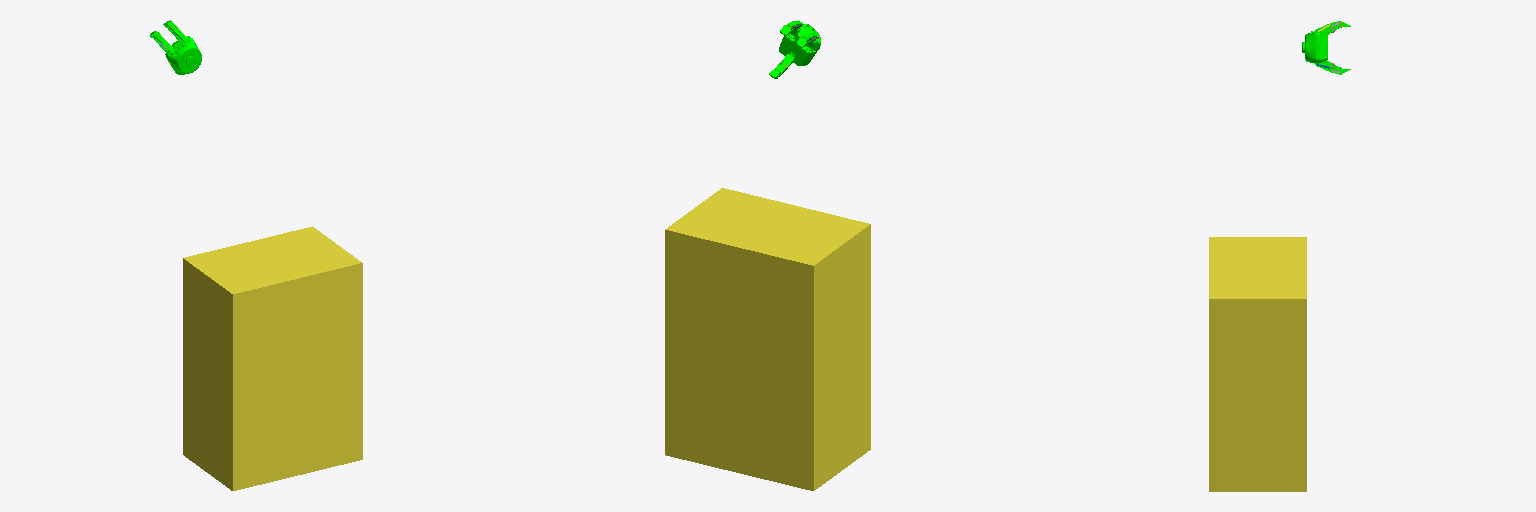
--- What the picture shows (computed from the rendered views, not written in the file) ---
The picture shows the robot from 3 angles, left to right: view 1: azimuth 30°, elevation 25°; view 2: azimuth 150°, elevation 25°; view 3: azimuth 270°, elevation 25°; orthographic projection.
Robot: ur5 — 52 links, 51 joints (45 revolute, 6 fixed); root link world; default pose: joints at zero except 1 at the middle of their limits (shoulder_lift_joint = -2.02).
Links seen in each view (by area): view 1: box_link, gripperpalm; view 2: box_link, gripperpalm; view 3: box_link, gripperpalm.
Link boxes in pixels (x1,y1,x2,y2): box_link: (183, 226, 362, 490); gripperpalm: (165, 36, 201, 74); box_link: (665, 188, 870, 490); gripperpalm: (779, 24, 820, 65); box_link: (1209, 237, 1306, 491); gripperpalm: (1302, 31, 1327, 62).
Bounding box of the posed robot: 0.6611 × 0.5767 × 1.86 m (x, y, z).
13 mesh visuals loaded from 12 distinct referenced files (5 binary STL); not drawn: 7 (reference not matched to a file when rendering).

URDF robot description (ur5):
<?xml version="1.0" ?>
<!-- =================================================================================== -->
<!-- |    This document was autogenerated by xacro from ur5_joint_limited_box_robot_robotiq3.urdf.xacro | -->
<!-- |    EDITING THIS FILE BY HAND IS NOT RECOMMENDED                                 | -->
<!-- =================================================================================== -->
<robot name="ur5" xmlns:xacro="http://ros.org/wiki/xacro">
  <gazebo>
    <plugin filename="libgazebo_ros_control.so" name="ros_control">
      <!--robotNamespace>/</robotNamespace-->
      <!--robotSimType>gazebo_ros_control/DefaultRobotHWSim</robotSimType-->
    </plugin>
    <!--
    <plugin name="gazebo_ros_power_monitor_controller" filename="libgazebo_ros_power_monitor.so">
      <alwaysOn>true</alwaysOn>
      <updateRate>1.0</updateRate>
      <timeout>5</timeout>
      <powerStateTopic>power_state</powerStateTopic>
      <powerStateRate>10.0</powerStateRate>
      <fullChargeCapacity>87.78</fullChargeCapacity>     
      <dischargeRate>-474</dischargeRate>
      <chargeRate>525</chargeRate>
      <dischargeVoltage>15.52</dischargeVoltage>
      <chargeVoltage>16.41</chargeVoltage>
    </plugin>
-->
  </gazebo>
  <!-- measured from model -->
  <!--property name="shoulder_height" value="0.089159" /-->
  <!--property name="shoulder_offset" value="0.13585" /-->
  <!-- shoulder_offset - elbow_offset + wrist_1_length = 0.10915 -->
  <!--property name="upper_arm_length" value="0.42500" /-->
  <!--property name="elbow_offset" value="0.1197" /-->
  <!-- CAD measured -->
  <!--property name="forearm_length" value="0.39225" /-->
  <!--property name="wrist_1_length" value="0.093" /-->
  <!-- CAD measured -->
  <!--property name="wrist_2_length" value="0.09465" /-->
  <!-- In CAD this distance is 0.930, but in the spec it is 0.09465 -->
  <!--property name="wrist_3_length" value="0.0823" /-->
  <!-- manually measured -->
  <link name="base_link">
    <visual>
      <geometry>
        <mesh filename="package://ur_description/meshes/ur5/visual/base.dae"/>
      </geometry>
      <material name="LightGrey">
        <color rgba="0.7 0.7 0.7 1.0"/>
      </material>
    </visual>
    <collision>
      <geometry>
        <mesh filename="package://ur_description/meshes/ur5/collision/base.stl"/>
      </geometry>
    </collision>
    <inertial>
      <mass value="4.0"/>
      <origin rpy="0 0 0" xyz="0.0 0.0 0.0"/>
      <inertia ixx="0.00443333156" ixy="0.0" ixz="0.0" iyy="0.00443333156" iyz="0.0" izz="0.0072"/>
    </inertial>
  </link>
  <joint name="shoulder_pan_joint" type="revolute">
    <parent link="base_link"/>
    <child link="shoulder_link"/>
    <origin rpy="0.0 0.0 0.0" xyz="0.0 0.0 0.089159"/>
    <axis xyz="0 0 1"/>
    <limit effort="150.0" lower="-3.14159265" upper="3.14159265" velocity="3.15"/>
    <dynamics damping="0.0" friction="0.0"/>
  </joint>
  <link name="shoulder_link">
    <visual>
      <geometry>
        <mesh filename="package://ur_description/meshes/ur5/visual/shoulder.dae"/>
      </geometry>
      <material name="LightGrey">
        <color rgba="0.7 0.7 0.7 1.0"/>
      </material>
    </visual>
    <collision>
      <geometry>
        <mesh filename="package://ur_description/meshes/ur5/collision/shoulder.stl"/>
      </geometry>
    </collision>
    <inertial>
      <mass value="3.7"/>
      <origin rpy="0 0 0" xyz="0.0 0.0 0.0"/>
      <inertia ixx="0.010267495893" ixy="0.0" ixz="0.0" iyy="0.010267495893" iyz="0.0" izz="0.00666"/>
    </inertial>
  </link>
  <joint name="shoulder_lift_joint" type="revolute">
    <parent link="shoulder_link"/>
    <child link="upper_arm_link"/>
    <origin rpy="0.0 1.570796325 0.0" xyz="0.0 0.13585 0.0"/>
    <axis xyz="0 1 0"/>
    <limit effort="150.0" lower="-3.14159265" upper="-0.9" velocity="3.15"/>
    <!-- <limit effort="150.0" lower="-3.14159265" upper="-0.8" velocity="3.15"/> -->
    <dynamics damping="0.0" friction="0.0"/>
  </joint>
  <link name="upper_arm_link">
    <visual>
      <geometry>
        <mesh filename="package://ur_description/meshes/ur5/visual/upperarm.dae"/>
      </geometry>
      <material name="LightGrey">
        <color rgba="0.7 0.7 0.7 1.0"/>
      </material>
    </visual>
    <collision>
      <geometry>
        <mesh filename="package://ur_description/meshes/ur5/collision/upperarm.stl"/>
      </geometry>
    </collision>
    <inertial>
      <mass value="8.393"/>
      <origin rpy="0 0 0" xyz="0.0 0.0 0.28"/>
      <inertia ixx="0.22689067591" ixy="0.0" ixz="0.0" iyy="0.22689067591" iyz="0.0" izz="0.0151074"/>
    </inertial>
  </link>
  <joint name="elbow_joint" type="revolute">
    <parent link="upper_arm_link"/>
    <child link="forearm_link"/>
    <origin rpy="0.0 0.0 0.0" xyz="0.0 -0.1197 0.425"/>
    <axis xyz="0 1 0"/>
    <limit effort="150.0" lower="-3.14159265" upper="3.14159265" velocity="3.15"/>
    <dynamics damping="0.0" friction="0.0"/>
  </joint>
  <link name="forearm_link">
    <visual>
      <geometry>
        <mesh filename="package://ur_description/meshes/ur5/visual/forearm.dae"/>
      </geometry>
      <material name="LightGrey">
        <color rgba="0.7 0.7 0.7 1.0"/>
      </material>
    </visual>
    <collision>
      <geometry>
        <mesh filename="package://ur_description/meshes/ur5/collision/forearm.stl"/>
      </geometry>
    </collision>
    <inertial>
      <mass value="2.275"/>
      <origin rpy="0 0 0" xyz="0.0 0.0 0.25"/>
      <inertia ixx="0.049443313556" ixy="0.0" ixz="0.0" iyy="0.049443313556" iyz="0.0" izz="0.004095"/>
    </inertial>
  </link>
  <joint name="wrist_1_joint" type="revolute">
    <parent link="forearm_link"/>
    <child link="wrist_1_link"/>
    <origin rpy="0.0 1.570796325 0.0" xyz="0.0 0.0 0.39225"/>
    <axis xyz="0 1 0"/>
    <limit effort="28.0" lower="-3.14159265" upper="3.14159265" velocity="3.2"/>
    <dynamics damping="0.0" friction="0.0"/>
  </joint>
  <link name="wrist_1_link">
    <visual>
      <geometry>
        <mesh filename="package://ur_description/meshes/ur5/visual/wrist1.dae"/>
      </geometry>
      <material name="LightGrey">
        <color rgba="0.7 0.7 0.7 1.0"/>
      </material>
    </visual>
    <collision>
      <geometry>
        <mesh filename="package://ur_description/meshes/ur5/collision/wrist1.stl"/>
      </geometry>
    </collision>
    <inertial>
      <mass value="1.219"/>
      <origin rpy="0 0 0" xyz="0.0 0.0 0.0"/>
      <inertia ixx="0.111172755531" ixy="0.0" ixz="0.0" iyy="0.111172755531" iyz="0.0" izz="0.21942"/>
    </inertial>
  </link>
  <joint name="wrist_2_joint" type="revolute">
    <parent link="wrist_1_link"/>
    <child link="wrist_2_link"/>
    <origin rpy="0.0 0.0 0.0" xyz="0.0 0.093 0.0"/>
    <axis xyz="0 0 1"/>
    <limit effort="28.0" lower="-3.14159265" upper="3.14159265" velocity="3.2"/>
    <dynamics damping="0.0" friction="0.0"/>
  </joint>
  <link name="wrist_2_link">
    <visual>
      <geometry>
        <mesh filename="package://ur_description/meshes/ur5/visual/wrist2.dae"/>
      </geometry>
      <material name="LightGrey">
        <color rgba="0.7 0.7 0.7 1.0"/>
      </material>
    </visual>
    <collision>
      <geometry>
        <mesh filename="package://ur_description/meshes/ur5/collision/wrist2.stl"/>
      </geometry>
    </collision>
    <inertial>
      <mass value="1.219"/>
      <origin rpy="0 0 0" xyz="0.0 0.0 0.0"/>
      <inertia ixx="0.111172755531" ixy="0.0" ixz="0.0" iyy="0.111172755531" iyz="0.0" izz="0.21942"/>
    </inertial>
  </link>
  <joint name="wrist_3_joint" type="revolute">
    <parent link="wrist_2_link"/>
    <child link="wrist_3_link"/>
    <origin rpy="0.0 0.0 0.0" xyz="0.0 0.0 0.09465"/>
    <axis xyz="0 1 0"/>
    <limit effort="28.0" lower="-3.14159265" upper="3.14159265" velocity="3.2"/>
    <dynamics damping="0.0" friction="0.0"/>
  </joint>
  <link name="wrist_3_link">
    <visual>
      <geometry>
        <mesh filename="package://ur_description/meshes/ur5/visual/wrist3.dae"/>
      </geometry>
      <material name="LightGrey">
        <color rgba="0.7 0.7 0.7 1.0"/>
      </material>
    </visual>
    <collision>
      <geometry>
        <mesh filename="package://ur_description/meshes/ur5/collision/wrist3.stl"/>
      </geometry>
    </collision>
    <inertial>
      <mass value="0.1879"/>
      <origin rpy="0 0 0" xyz="0.0 0.0 0.0"/>
      <inertia ixx="0.0171364731454" ixy="0.0" ixz="0.0" iyy="0.0171364731454" iyz="0.0" izz="0.033822"/>
    </inertial>
  </link>
  <joint name="ee_fixed_joint" type="fixed">
    <parent link="wrist_3_link"/>
    <child link="ee_link"/>
    <origin rpy="0.0 0.0 1.570796325" xyz="0.0 0.0823 0.0"/>
  </joint>
  <link name="ee_link">
    <collision>
      <geometry>
        <box size="0.01 0.01 0.01"/>
      </geometry>
      <origin rpy="0 0 0" xyz="-0.01 0 0"/>
    </collision>
  </link>
  <transmission name="shoulder_pan_trans">
    <type>transmission_interface/SimpleTransmission</type>
    <joint name="shoulder_pan_joint">
      <hardwareInterface>PositionJointInterface</hardwareInterface>
    </joint>
    <actuator name="shoulder_pan_motor">
      <mechanicalReduction>1</mechanicalReduction>
    </actuator>
  </transmission>
  <transmission name="shoulder_lift_trans">
    <type>transmission_interface/SimpleTransmission</type>
    <joint name="shoulder_lift_joint">
      <hardwareInterface>PositionJointInterface</hardwareInterface>
    </joint>
    <actuator name="shoulder_lift_motor">
      <mechanicalReduction>1</mechanicalReduction>
    </actuator>
  </transmission>
  <transmission name="elbow_trans">
    <type>transmission_interface/SimpleTransmission</type>
    <joint name="elbow_joint">
      <hardwareInterface>PositionJointInterface</hardwareInterface>
    </joint>
    <actuator name="elbow_motor">
      <mechanicalReduction>1</mechanicalReduction>
    </actuator>
  </transmission>
  <transmission name="wrist_1_trans">
    <type>transmission_interface/SimpleTransmission</type>
    <joint name="wrist_1_joint">
      <hardwareInterface>PositionJointInterface</hardwareInterface>
    </joint>
    <actuator name="wrist_1_motor">
      <mechanicalReduction>1</mechanicalReduction>
    </actuator>
  </transmission>
  <transmission name="wrist_2_trans">
    <type>transmission_interface/SimpleTransmission</type>
    <joint name="wrist_2_joint">
      <hardwareInterface>PositionJointInterface</hardwareInterface>
    </joint>
    <actuator name="wrist_2_motor">
      <mechanicalReduction>1</mechanicalReduction>
    </actuator>
  </transmission>
  <transmission name="wrist_3_trans">
    <type>transmission_interface/SimpleTransmission</type>
    <joint name="wrist_3_joint">
      <hardwareInterface>PositionJointInterface</hardwareInterface>
    </joint>
    <actuator name="wrist_3_motor">
      <mechanicalReduction>1</mechanicalReduction>
    </actuator>
  </transmission>
  <!-- nothing to do here at the moment -->
  <!-- ROS base_link to UR 'Base' Coordinates transform -->
  <link name="base"/>
  <joint name="base_link-base_fixed_joint" type="fixed">
    <!-- NOTE: this rotation is only needed as long as base_link itself is
                 not corrected wrt the real robot (ie: rotated over 180
                 degrees)
      -->
    <origin rpy="0 0 -3.14159265" xyz="0 0 0"/>
    <parent link="base_link"/>
    <child link="base"/>
  </joint>
  <!-- Frame coincident with all-zeros TCP on UR controller -->
  <link name="tool0"/>
  <joint name="wrist_3_link-tool0_fixed_joint" type="fixed">
    <origin rpy="-1.570796325 0 0" xyz="0 0.0823 0"/>
    <parent link="wrist_3_link"/>
    <child link="tool0"/>
  </joint>
  <link name="world"/>
  <!-- box -->
  <link name="box_link">
    <visual>
      <geometry>
        <box size=".6 .4 0.87"/>
      </geometry>
    </visual>
  </link>
  <!-- attach the box to the world-->
  <joint name="world_joint" type="fixed">
    <parent link="world"/>
    <child link="box_link"/>
    <origin rpy="0.0 0.0 0.0" xyz="0.0 0 0.435"/>
  </joint>
  <!-- attach the robot to the box -->
  <joint name="box_joint" type="fixed">
    <parent link="box_link"/>
    <child link="base_link"/>
    <origin rpy="0.0 0.0 0.0" xyz="0.0 0.0 0.435"/>
  </joint>
  <!-- joint attaching parent link to robotiq hand -->
  <joint name="gripperrobotiq_hand_joint" type="fixed">
    <origin rpy="1.570796325 0 0" xyz="0 0 0.0423"/>
    <parent link="tool0"/>
    <child link="gripperpalm"/>
  </joint>
  <!-- Link list -->
  <!-- Link 0 -->
  <link name="gripperfinger_1_link_0">
    <visual>
      <origin rpy="0 0 0" xyz="0 0 0"/>
      <geometry>
        <mesh filename="package://robotiq_s_model_visualization/meshes/s-model_articulated/visual/link_0.STL"/>
      </geometry>
      <material name="green">
        <color rgba="0 1 0 1"/>
      </material>
    </visual>
    <collision>
      <origin rpy="0 0 0" xyz="0 0 0"/>
      <geometry>
        <mesh filename="package://robotiq_s_model_visualization/meshes/s-model_articulated/collision/link_0.STL"/>
      </geometry>
      <material name="yellow">
        <color rgba="0 1 1 1"/>
      </material>
    </collision>
    <inertial>
      <mass value="0.1"/>
      <origin xyz="-0.01 0 0"/>
      <inertia ixx="0.000018" ixy="0" ixz="0" iyy="0.000025" iyz="0" izz="0.000025"/>
    </inertial>
  </link>
  <gazebo reference="gripperfinger_1_link_0">
    <mu1>1.1</mu1>
    <mu2>1.1</mu2>
  </gazebo>
  <!-- Link 1 -->
  <link name="gripperfinger_1_link_1">
    <visual>
      <origin rpy="0 0 1.5708" xyz="0 0.05717 0"/>
      <geometry>
        <mesh filename="package://robotiq_s_model_visualization/meshes/s-model_articulated/visual/link_1.STL"/>
      </geometry>
      <material name="green"/>
    </visual>
    <collision>
      <origin rpy="0 0 1.5708" xyz="0 0.05717 0"/>
      <geometry>
        <mesh filename="package://robotiq_s_model_visualization/meshes/s-model_articulated/collision/link_1.STL"/>
      </geometry>
      <material name="yellow">
        <color rgba="0 1 1 1"/>
      </material>
    </collision>
    <inertial>
      <origin rpy="0 0 1.5708" xyz="0.00053 0.03218 0"/>
      <mass value="0.047"/>
      <inertia ixx="0.00000499332" ixy="0.00000091312" ixz="-0.00000000120" iyy="0.00006434531" iyz="-0.00000000007" izz="0.00006061917"/>
    </inertial>
  </link>
  <gazebo reference="gripperfinger_1_link_1">
    <mu1>1.1</mu1>
    <mu2>1.1</mu2>
  </gazebo>
  <!-- Link 2 -->
  <link name="gripperfinger_1_link_2">
    <visual>
      <origin rpy="0 0 1.5708" xyz="0 0.03810 0.0075"/>
      <geometry>
        <mesh filename="package://robotiq_s_model_visualization/meshes/s-model_articulated/visual/link_2.STL"/>
      </geometry>
      <material name="green"/>
    </visual>
    <collision>
      <origin rpy="0 0 1.5708" xyz="0 0.03810 0.0075"/>
      <geometry>
        <mesh filename="package://robotiq_s_model_visualization/meshes/s-model_articulated/collision/link_2.STL"/>
      </geometry>
      <material name="yellow"/>
    </collision>
    <inertial>
      <origin rpy="0 0 1.5708" xyz="0.00048 0.02167 0.00018"/>
      <mass value="0.03284"/>
      <inertia ixx="0.00000348008" ixy="0.00000031940" ixz="0.00000013041" iyy="0.00002248123" iyz="0.00000000291" izz="0.00001986346"/>
    </inertial>
  </link>
  <gazebo reference="gripperfinger_1_link_2">
    <mu1>1.1</mu1>
    <mu2>1.1</mu2>
  </gazebo>
  <!-- Link 3 -->
  <link name="gripperfinger_1_link_3">
    <visual>
      <origin rpy="0 0 0" xyz="0 0 0"/>
      <geometry>
        <mesh filename="package://robotiq_s_model_visualization/meshes/s-model_articulated/visual/link_3.STL"/>
      </geometry>
      <material name="green"/>
    </visual>
    <collision>
      <origin rpy="0 0 0" xyz="0 0 0"/>
      <geometry>
        <mesh filename="package://robotiq_s_model_visualization/meshes/s-model_articulated/collision/link_3.STL"/>
      </geometry>
      <material name="yellow"/>
    </collision>
    <inertial>
      <origin rpy="0 0 0" xyz="0.01626 0.00049 0.0002"/>
      <mass value="0.03354"/>
      <inertia ixx="0.00000305151" ixy="0.00000089792" ixz="0.00000000249" iyy="0.00001427978" iyz="-0.00000001191" izz="0.00001264126"/>
    </inertial>
  </link>
  <gazebo reference="gripperfinger_1_link_3">
    <mu1>1.1</mu1>
    <mu2>1.1</mu2>
  </gazebo>
  <!-- Link proximal actuating hinge -->
  <link name="gripperfinger_1_link_proximal_actuating_hinge">
    <visual>
      <origin rpy="0 0 0" xyz="0.01429 0 0"/>
      <geometry>
        <box size="0.02858 .0075 .002"/>
      </geometry>
    </visual>
    <collision>
      <origin rpy="0 0 0" xyz="0.01429 0 0"/>
      <geometry>
        <box size="0.02858 .0075 .002"/>
      </geometry>
    </collision>
    <inertial>
      <origin rpy="0 0 0" xyz="0.0012 -0.00162 -0.00161"/>
      <mass value="0.02647"/>
      <inertia ixx="0.00000156447" ixy="0.000000236226" ixz="-0.00000014862" iyy="0.00000221068" iyz="-0.00000014369" izz="0.00000323175"/>
    </inertial>
  </link>
  <gazebo reference="gripperfinger_1_link_proximal_actuating_hinge">
    <mu1>1.1</mu1>
    <mu2>1.1</mu2>
  </gazebo>
  <!-- Link paraproximal actuating hinge -->
  <link name="gripperfinger_1_link_paraproximal_actuating_hinge">
    <visual>
      <origin rpy="0 0 0" xyz="0.01143 0 0"/>
      <geometry>
        <box size="0.02286 .0075 .002"/>
      </geometry>
    </visual>
    <collision>
      <origin rpy="0 0 0" xyz="0.01143 0 0"/>
      <geometry>
        <box size="0.02286 .0075 .002"/>
      </geometry>
    </collision>
    <inertial>
      <origin rpy="0 0 0" xyz="0.0064 0 0"/>
      <!-- copied from proximal_actuating_hinge -->
      <mass value="0.00362"/>
      <inertia ixx="0.00000012043" ixy="0" ixz="0" iyy="0.00000053588" iyz="0" izz="0.00000065322"/>
    </inertial>
  </link>
  <gazebo reference="gripperfinger_1_link_paraproximal_actuating_hinge">
    <mu1>1.1</mu1>
    <mu2>1.1</mu2>
  </gazebo>
  <!-- Link proximal actuating bar -->
  <link name="gripperfinger_1_link_proximal_actuating_bar">
    <visual>
      <origin rpy="0 0 0" xyz="0.026789 0 0"/>
      <geometry>
        <box size="0.05398 .0075 .002"/>
      </geometry>
    </visual>
    <collision>
      <origin rpy="0 0 0" xyz="0.026789 0 0"/>
      <geometry>
        <box size="0.05398 .0075 .002"/>
      </geometry>
    </collision>
    <inertial>
      <origin rpy="0 0 0" xyz="0.02699 -0.00122 0"/>
      <mass value="0.00659"/>
      <inertia ixx="0.00000008348" ixy="-0.0000002179" ixz="0.00000000134" iyy="0.00000719076" iyz="0" izz="0.00000718272"/>
    </inertial>
  </link>
  <gazebo reference="gripperfinger_1_link_proximal_actuating_bar">
    <mu1>1.1</mu1>
    <mu2>1.1</mu2>
  </gazebo>
  <!-- Link paraproximal bar -->
  <link name="gripperfinger_1_link_paraproximal_bar">
    <visual>
      <origin rpy="0 0 0" xyz="0.02885 0 0"/>
      <geometry>
        <box size="0.05770 .0075 .002"/>
      </geometry>
    </visual>
    <collision>
      <origin rpy="0 0 0" xyz="0.02885 0 0"/>
      <geometry>
        <box size="0.05770 .0075 .002"/>
      </geometry>
    </collision>
    <inertial>
      <origin rpy="0 0 0" xyz="0.02858 -0.00129 0"/>
      <mass value="0.00732"/>
      <inertia ixx="0.00000009065" ixy="-0.00000027047" ixz="0.00000000142" iyy="0.00000878034" iyz="0" izz="0.00000877558"/>
    </inertial>
  </link>
  <gazebo reference="gripperfinger_1_link_paraproximal_bar">
    <mu1>1.1</mu1>
    <mu2>1.1</mu2>
  </gazebo>
  <!-- Link median actuating hinge -->
  <link name="gripperfinger_1_link_median_actuating_hinge">
    <visual>
      <origin rpy="0 0 0" xyz="0 0 0"/>
      <geometry>
        <box size=".02 .02 .002"/>
      </geometry>
    </visual>
    <collision>
      <origin rpy="0 0 0" xyz="0 0 0"/>
      <geometry>
        <box size=".02 .02 .002"/>
      </geometry>
    </collision>
    <inertial>
      <origin rpy="0 0 0" xyz="0.0092 0.00514 0"/>
      <mass value="0.00359"/>
      <inertia ixx="0.00000024735" ixy="0.00000023619" ixz="0" iyy="0.00000047681" iyz="0" izz="0.00000071813"/>
    </inertial>
  </link>
  <gazebo reference="gripperfinger_1_link_median_actuating_hinge">
    <mu1>1.1</mu1>
    <mu2>1.1</mu2>
  </gazebo>
  <!-- Link median bar -->
  <link name="gripperfinger_1_link_median_bar">
    <visual>
      <origin rpy="0 0 0" xyz="0.01905 0 0"/>
      <geometry>
        <box size="0.0381 .0075 .002"/>
      </geometry>
    </visual>
    <collision>
      <origin rpy="0 0 0" xyz="0.01905 0 0"/>
      <geometry>
        <box size="0.0381 .0075 .002"/>
      </geometry>
    </collision>
    <inertial>
      <origin rpy="0 0 0" xyz="0.01905 -0.00107 0"/>
      <mass value="0.00538"/>
      <inertia ixx="0.00000006639" ixy="-0.00000010996" ixz="0.00000000094" iyy="0.00000305318" iyz="0" izz="0.00000304657"/>
    </inertial>
  </link>
  <gazebo reference="gripperfinger_1_link_median_bar">
    <mu1>1.1</mu1>
    <mu2>1.1</mu2>
  </gazebo>
  <!-- Link paramedian hinge -->
  <link name="gripperfinger_1_link_paramedian_hinge">
    <visual>
      <origin rpy="0 0 0" xyz="0 0 0"/>
      <geometry>
        <box size=".02 .02 .002"/>
      </geometry>
    </visual>
    <collision>
      <origin rpy="0 0 0" xyz="0 0 0"/>
      <geometry>
        <box size=".02 .02 .002"/>
      </geometry>
    </collision>
    <inertial>
      <origin rpy="0 0 0" xyz="-0.01025 0.00046 0"/>
      <mass value="0.00276"/>
      <inertia ixx="0.00000004213" ixy="-0.00000001491" ixz="0" iyy="0.00000050258" iyz="0" izz="0.00000054007"/>
    </inertial>
  </link>
  <gazebo reference="gripperfinger_1_link_paramedian_hinge">
    <mu1>1.1</mu1>
    <mu2>1.1</mu2>
  </gazebo>
  <!-- Link median bar underactuated -->
  <link name="gripperfinger_1_link_median_bar_underactuated">
    <visual>
      <origin rpy="0 0 0" xyz="0.01905 0 0"/>
      <geometry>
        <box size="0.0381 .0075 .002"/>
      </geometry>
    </visual>
    <collision>
      <origin rpy="0 0 0" xyz="0.01905 0 0"/>
      <geometry>
        <box size="0.0381 .0075 .002"/>
      </geometry>
    </collision>
    <inertial>
      <origin rpy="0 0 0" xyz="0.01905 -0.00107 0"/>
      <mass value="0.00538"/>
      <inertia ixx="0.00000006639" ixy="-0.00000010996" ixz="-0.00000000094" iyy="0.00000305318" iyz="0" izz="0.00000304657"/>
    </inertial>
  </link>
  <gazebo reference="gripperfinger_1_link_median_bar_underactuated">
    <mu1>1.1</mu1>
    <mu2>1.1</mu2>
  </gazebo>
  <!-- Link paradistal hinge -->
  <link name="gripperfinger_1_link_paradistal_hinge">
    <visual>
      <origin rpy="0 0 0" xyz="0 0 0"/>
      <geometry>
        <box size=".02 .02 .002"/>
      </geometry>
    </visual>
    <collision>
      <origin rpy="0 0 0" xyz="0 0 0"/>
      <geometry>
        <box size=".02 0.02 .002"/>
      </geometry>
    </collision>
    <inertial>
      <origin rpy="0 0 0" xyz="0.00548 0 0"/>
      <mass value="0.00158"/>
      <inertia ixx="0.00000001907" ixy="0" ixz="0" iyy="0.00000010970" iyz="0" izz="0.00000012610"/>
    </inertial>
  </link>
  <gazebo reference="gripperfinger_1_link_paradistal_hinge">
    <mu1>1.1</mu1>
    <mu2>1.1</mu2>
  </gazebo>
  <!-- End of link list -->
  <!-- Joint list -->
  <!-- Joint proximal actuating hinge -->
  <joint name="gripperfinger_1_joint_proximal_actuating_hinge" type="revolute">
    <parent link="gripperfinger_1_link_0"/>
    <child link="gripperfinger_1_link_proximal_actuating_hinge"/>
    <axis xyz="0 0 1"/>
    <origin rpy="0 0 -2.0906" xyz="0 0 0.01"/>
    <limit effort="100" lower="-3.1416" upper="3.1416" velocity="100"/>
  </joint>
  <gazebo reference="gripperfinger_1_joint_proximal_actuating_hinge">
    <implicitSpringDamper>1</implicitSpringDamper>
  </gazebo>
  <!-- Joint paraproximal actuating hinge -->
  <joint name="gripperfinger_1_joint_paraproximal_actuating_hinge" type="revolute">
    <parent link="gripperfinger_1_link_0"/>
    <child link="gripperfinger_1_link_paraproximal_actuating_hinge"/>
    <axis xyz="0 0 1"/>
    <origin rpy="0 0 -2.0906" xyz="0 0 -0.01"/>
    <limit effort="100" lower="-3.1416" upper="3.1416" velocity="100"/>
  </joint>
  <gazebo reference="gripperfinger_1_joint_paraproximal_actuating_hinge">
    <implicitSpringDamper>1</implicitSpringDamper>
  </gazebo>
  <!-- Joint proximal actuating bar -->
  <joint name="gripperfinger_1_joint_proximal_actuating_bar" type="revolute">
    <parent link="gripperfinger_1_link_proximal_actuating_hinge"/>
    <child link="gripperfinger_1_link_proximal_actuating_bar"/>
    <axis xyz="0 0 1"/>
    <origin rpy="0 0 1.8616" xyz="0.02858 0 0"/>
    <limit effort="100" lower="-3.1416" upper="3.1416" velocity="100"/>
  </joint>
  <gazebo reference="gripperfinger_1_joint_proximal_actuating_bar">
    <implicitSpringDamper>1</implicitSpringDamper>
  </gazebo>
  <!-- Joint paraproximal bar -->
  <joint name="gripperfinger_1_joint_paraproximal_bar" type="revolute">
    <parent link="gripperfinger_1_link_paraproximal_actuating_hinge"/>
    <child link="gripperfinger_1_link_paraproximal_bar"/>
    <axis xyz="0 0 1"/>
    <origin rpy="0 0 1.57" xyz="0.02286 0 0"/>
    <limit effort="100" lower="-3.1416" upper="3.1416" velocity="100"/>
  </joint>
  <gazebo reference="gripperfinger_1_joint_paraproximal_bar">
    <implicitSpringDamper>1</implicitSpringDamper>
  </gazebo>
  <!-- Joint median actuating hinge -->
  <joint name="gripperfinger_1_joint_median_actuating_hinge" type="revolute">
    <parent link="gripperfinger_1_link_1"/>
    <child link="gripperfinger_1_link_median_actuating_hinge"/>
    <axis xyz="0 0 1"/>
    <origin rpy="0 0 -0.37" xyz="0 0.05715 0.01"/>
    <limit effort="100" lower="-3.1416" upper="3.1416" velocity="100"/>
  </joint>
  <gazebo reference="gripperfinger_1_joint_median_actuating_hinge">
    <implicitSpringDamper>1</implicitSpringDamper>
  </gazebo>
  <!-- Joint paramedian hinge -->
  <joint name="gripperfinger_1_joint_paramedian_hinge" type="revolute">
    <parent link="gripperfinger_1_link_1"/>
    <child link="gripperfinger_1_link_paramedian_hinge"/>
    <axis xyz="0 0 1"/>
    <!-- -0.37 is hand picked, 0.9719 is hand calculated from atan(0.02381/0.01625) -->
    <origin rpy="0 0 0" xyz="0 0.05715 -0.01"/>
    <limit effort="100" lower="-3.1416" upper="3.1416" velocity="100"/>
  </joint>
  <gazebo reference="gripperfinger_1_joint_paramedian_hinge">
    <implicitSpringDamper>1</implicitSpringDamper>
  </gazebo>
  <!-- Joint median actuating hinge median bar -->
  <joint name="gripperfinger_1_joint_median_actuating_hinge_median_bar" type="revolute">
    <parent link="gripperfinger_1_link_median_actuating_hinge"/>
    <child link="gripperfinger_1_link_median_bar"/>
    <axis xyz="0 0 1"/>
    <!-- hand calc 90 deg + atan(0.01516/0.01625) -->
    <origin rpy="0 0 2.3215" xyz="0.01625 0.01516 0"/>
    <limit effort="100" lower="-3.1416" upper="3.1416" velocity="100"/>
  </joint>
  <gazebo reference="gripperfinger_1_joint_median_actuating_hinge_median_bar">
    <implicitSpringDamper>1</implicitSpringDamper>
  </gazebo>
  <!-- Joint paradistal hinge -->
  <joint name="gripperfinger_1_joint_paradistal_hinge" type="revolute">
    <parent link="gripperfinger_1_link_2"/>
    <child link="gripperfinger_1_link_paradistal_hinge"/>
    <axis xyz="0 0 1"/>
    <origin rpy="0 0 0" xyz="0 0.039 -0.01"/>
    <limit effort="100" lower="-3.1416" upper="3.1416" velocity="100"/>
  </joint>
  <gazebo reference="gripperfinger_1_joint_paradistal_hinge">
    <implicitSpringDamper>1</implicitSpringDamper>
  </gazebo>
  <!-- Joint paramedian hinge median bar underactuated -->
  <joint name="gripperfinger_1_joint_paramedian_hinge_median_bar_underactuated" type="revolute">
    <parent link="gripperfinger_1_link_paramedian_hinge"/>
    <child link="gripperfinger_1_link_median_bar_underactuated"/>
    <axis xyz="0 0 1"/>
    <!-- hand calc 90 deg + atan(0.01227/0.00329) -->
    <origin rpy="0 0 1.5708" xyz="0.01227 0.00329 0"/>
    <limit effort="100" lower="-3.1416" upper="3.1416" velocity="100"/>
  </joint>
  <gazebo reference="gripperfinger_1_joint_paramedian_hinge_median_bar_underactuated">
    <implicitSpringDamper>1</implicitSpringDamper>
  </gazebo>
  <!-- Joint 1 -->
  <joint name="gripperfinger_1_joint_1" type="revolute">
    <origin rpy="0 0 -2.0906" xyz="0 0 0"/>
    <axis xyz="0 0 1"/>
    <parent link="gripperfinger_1_link_0"/>
    <child link="gripperfinger_1_link_1"/>
    <dynamics damping="1" friction="0"/>
    <!-- Limits: [0deg.,70deg.] -->
    <limit effort="60" lower="0" upper="1.2217" velocity="-1"/>
  </joint>
  <gazebo reference="gripperfinger_1_joint_1">
    <implicitSpringDamper>1</implicitSpringDamper>
  </gazebo>
  <!-- Joint 2 -->
  <joint name="gripperfinger_1_joint_2" type="revolute">
    <parent link="gripperfinger_1_link_1"/>
    <child link="gripperfinger_1_link_2"/>
    <dynamics damping="1" friction="0"/>
    <axis xyz="0 0 1"/>
    <origin rpy="0 0 0" xyz="0 0.05715 0"/>
    <!-- Limits: [0deg.,90deg.] -->
    <limit effort="60" lower="0" upper="1.5708" velocity="-1"/>
  </joint>
  <gazebo reference="gripperfinger_1_joint_2">
    <implicitSpringDamper>1</implicitSpringDamper>
  </gazebo>
  <!-- Joint 3 -->
  <joint name="gripperfinger_1_joint_3" type="revolute">
    <parent link="gripperfinger_1_link_2"/>
    <child link="gripperfinger_1_link_3"/>
    <dynamics damping="1" friction="0"/>
    <axis xyz="0 0 1"/>
    <origin rpy="0 0 2.0906" xyz="0 0.039 0"/>
    <!-- Limits: [-38deg.,60deg.] -->
    <limit effort="60" lower="-0.6632" upper="1.0471" velocity="-1"/>
  </joint>
  <gazebo reference="gripperfinger_1_joint_3">
    <implicitSpringDamper>1</implicitSpringDamper>
  </gazebo>
  <!-- end of joint list -->
  <!-- coupling joints in sdf -->
  <gazebo>
    <joint name="gripperfinger_1_link_proximal_actuating_bar_median_actuating_hinge_couple" type="revolute">
      <parent>gripperfinger_1_link_median_actuating_hinge</parent>
      <child>gripperfinger_1_link_proximal_actuating_bar</child>
      <pose>0.05398 0 0 0 0 0</pose>
      <axis>
        <dynamics>
          <damping>0</damping>
          <friction>0</friction>
        </dynamics>
        <xyz>0 0 1</xyz>
        <!-- <use_parent_model_frame>false</use_parent_model_frame> -->
      </axis>
    </joint>
  </gazebo>
  <gazebo reference="gripperfinger_1_link_proximal_actuating_bar_median_actuating_hinge_couple">
    <implicitSpringDamper>1</implicitSpringDamper>
  </gazebo>
  <gazebo>
    <joint name="gripperfinger_1_link_median_bar_link_3_couple" type="revolute">
      <parent>gripperfinger_1_link_3</parent>
      <child>gripperfinger_1_link_median_bar</child>
      <pose>0.0381 0 0 0 0 0</pose>
      <axis>
        <dynamics>
          <damping>0</damping>
          <friction>0</friction>
        </dynamics>
        <xyz>0 0 1</xyz>
        <!-- <use_parent_model_frame>false</use_parent_model_frame> -->
      </axis>
    </joint>
  </gazebo>
  <gazebo reference="gripperfinger_1_link_median_bar_link_3_couple">
    <implicitSpringDamper>1</implicitSpringDamper>
  </gazebo>
  <gazebo>
    <joint name="gripperfinger_1_link_paramedian_bar_paradistal_hinge_couple" type="revolute">
      <parent>gripperfinger_1_link_paradistal_hinge</parent>
      <child>gripperfinger_1_link_median_bar_underactuated</child>
      <pose>0.0381 0 0 0 0 0</pose>
      <axis>
        <dynamics>
          <damping>0</damping>
          <friction>0</friction>
        </dynamics>
        <xyz>0 0 1</xyz>
        <!-- <use_parent_model_frame>false</use_parent_model_frame> -->
      </axis>
    </joint>
  </gazebo>
  <gazebo reference="gripperfinger_1_link_median_bar_link_3_couple">
    <implicitSpringDamper>1</implicitSpringDamper>
  </gazebo>
  <gazebo>
    <joint name="gripperfinger_1_link_paradistal_hinge_link_3_couple" type="revolute">
      <parent>gripperfinger_1_link_paradistal_hinge</parent>
      <child>gripperfinger_1_link_3</child>
      <pose>0.0381 0 0 0 0 0</pose>
      <axis>
        <dynamics>
          <damping>0</damping>
          <friction>0</friction>
        </dynamics>
        <xyz>0 0 1</xyz>
        <!-- <use_parent_model_frame>false</use_parent_model_frame> -->
      </axis>
    </joint>
  </gazebo>
  <gazebo reference="gripperfinger_1_link_paradistal_hinge_link_3_couple">
    <implicitSpringDamper>1</implicitSpringDamper>
  </gazebo>
  <gazebo>
    <joint name="gripperfinger_1_link_paraproximal_bar_paramedian_hinge_couple" type="revolute">
      <parent>gripperfinger_1_link_paramedian_hinge</parent>
      <child>gripperfinger_1_link_paraproximal_bar</child>
      <pose>0.05770 0 0 0 0 0</pose>
      <axis>
        <dynamics>
          <damping>0</damping>
          <friction>0</friction>
        </dynamics>
        <xyz>0 0 1</xyz>
        <!-- <use_parent_model_frame>false</use_parent_model_frame> -->
      </axis>
    </joint>
  </gazebo>
  <gazebo reference="gripperfinger_1_link_paraproximal_bar_paramedian_hinge_couple">
    <implicitSpringDamper>1</implicitSpringDamper>
  </gazebo>
  <!-- Link list -->
  <!-- Link 0 -->
  <link name="gripperfinger_2_link_0">
    <visual>
      <origin rpy="0 0 0" xyz="0 0 0"/>
      <geometry>
        <mesh filename="package://robotiq_s_model_visualization/meshes/s-model_articulated/visual/link_0.STL"/>
      </geometry>
      <material name="green">
        <color rgba="0 1 0 1"/>
      </material>
    </visual>
    <collision>
      <origin rpy="0 0 0" xyz="0 0 0"/>
      <geometry>
        <mesh filename="package://robotiq_s_model_visualization/meshes/s-model_articulated/collision/link_0.STL"/>
      </geometry>
      <material name="yellow">
        <color rgba="0 1 1 1"/>
      </material>
    </collision>
    <inertial>
      <mass value="0.1"/>
      <origin xyz="-0.01 0 0"/>
      <inertia ixx="0.000018" ixy="0" ixz="0" iyy="0.000025" iyz="0" izz="0.000025"/>
    </inertial>
  </link>
  <gazebo reference="gripperfinger_2_link_0">
    <mu1>1.1</mu1>
    <mu2>1.1</mu2>
  </gazebo>
  <!-- Link 1 -->
  <link name="gripperfinger_2_link_1">
    <visual>
      <origin rpy="0 0 1.5708" xyz="0 0.05717 0"/>
      <geometry>
        <mesh filename="package://robotiq_s_model_visualization/meshes/s-model_articulated/visual/link_1.STL"/>
      </geometry>
      <material name="green"/>
    </visual>
    <collision>
      <origin rpy="0 0 1.5708" xyz="0 0.05717 0"/>
      <geometry>
        <mesh filename="package://robotiq_s_model_visualization/meshes/s-model_articulated/collision/link_1.STL"/>
      </geometry>
      <material name="yellow">
        <color rgba="0 1 1 1"/>
      </material>
    </collision>
    <inertial>
      <origin rpy="0 0 1.5708" xyz="0.00053 0.03218 0"/>
      <mass value="0.047"/>
      <inertia ixx="0.00000499332" ixy="0.00000091312" ixz="-0.00000000120" iyy="0.00006434531" iyz="-0.00000000007" izz="0.00006061917"/>
    </inertial>
  </link>
  <gazebo reference="gripperfinger_2_link_1">
    <mu1>1.1</mu1>
    <mu2>1.1</mu2>
  </gazebo>
  <!-- Link 2 -->
  <link name="gripperfinger_2_link_2">
    <visual>
      <origin rpy="0 0 1.5708" xyz="0 0.03810 0.0075"/>
      <geometry>
        <mesh filename="package://robotiq_s_model_visualization/meshes/s-model_articulated/visual/link_2.STL"/>
      </geometry>
      <material name="green"/>
    </visual>
    <collision>
      <origin rpy="0 0 1.5708" xyz="0 0.03810 0.0075"/>
      <geometry>
        <mesh filename="package://robotiq_s_model_visualization/meshes/s-model_articulated/collision/link_2.STL"/>
      </geometry>
      <material name="yellow"/>
    </collision>
    <inertial>
      <origin rpy="0 0 1.5708" xyz="0.00048 0.02167 0.00018"/>
      <mass value="0.03284"/>
      <inertia ixx="0.00000348008" ixy="0.00000031940" ixz="0.00000013041" iyy="0.00002248123" iyz="0.00000000291" izz="0.00001986346"/>
    </inertial>
  </link>
  <gazebo reference="gripperfinger_2_link_2">
    <mu1>1.1</mu1>
    <mu2>1.1</mu2>
  </gazebo>
  <!-- Link 3 -->
  <link name="gripperfinger_2_link_3">
    <visual>
      <origin rpy="0 0 0" xyz="0 0 0"/>
      <geometry>
        <mesh filename="package://robotiq_s_model_visualization/meshes/s-model_articulated/visual/link_3.STL"/>
      </geometry>
      <material name="green"/>
    </visual>
    <collision>
      <origin rpy="0 0 0" xyz="0 0 0"/>
      <geometry>
        <mesh filename="package://robotiq_s_model_visualization/meshes/s-model_articulated/collision/link_3.STL"/>
      </geometry>
      <material name="yellow"/>
    </collision>
    <inertial>
      <origin rpy="0 0 0" xyz="0.01626 0.00049 0.0002"/>
      <mass value="0.03354"/>
      <inertia ixx="0.00000305151" ixy="0.00000089792" ixz="0.00000000249" iyy="0.00001427978" iyz="-0.00000001191" izz="0.00001264126"/>
    </inertial>
  </link>
  <gazebo reference="gripperfinger_2_link_3">
    <mu1>1.1</mu1>
    <mu2>1.1</mu2>
  </gazebo>
  <!-- Link proximal actuating hinge -->
  <link name="gripperfinger_2_link_proximal_actuating_hinge">
    <visual>
      <origin rpy="0 0 0" xyz="0.01429 0 0"/>
      <geometry>
        <box size="0.02858 .0075 .002"/>
      </geometry>
    </visual>
    <collision>
      <origin rpy="0 0 0" xyz="0.01429 0 0"/>
      <geometry>
        <box size="0.02858 .0075 .002"/>
      </geometry>
    </collision>
    <inertial>
      <origin rpy="0 0 0" xyz="0.0012 -0.00162 -0.00161"/>
      <mass value="0.02647"/>
      <inertia ixx="0.00000156447" ixy="0.000000236226" ixz="-0.00000014862" iyy="0.00000221068" iyz="-0.00000014369" izz="0.00000323175"/>
    </inertial>
  </link>
  <gazebo reference="gripperfinger_2_link_proximal_actuating_hinge">
    <mu1>1.1</mu1>
    <mu2>1.1</mu2>
  </gazebo>
  <!-- Link paraproximal actuating hinge -->
  <link name="gripperfinger_2_link_paraproximal_actuating_hinge">
    <visual>
      <origin rpy="0 0 0" xyz="0.01143 0 0"/>
      <geometry>
        <box size="0.02286 .0075 .002"/>
      </geometry>
    </visual>
    <collision>
      <origin rpy="0 0 0" xyz="0.01143 0 0"/>
      <geometry>
        <box size="0.02286 .0075 .002"/>
      </geometry>
    </collision>
    <inertial>
      <origin rpy="0 0 0" xyz="0.0064 0 0"/>
      <!-- copied from proximal_actuating_hinge -->
      <mass value="0.00362"/>
      <inertia ixx="0.00000012043" ixy="0" ixz="0" iyy="0.00000053588" iyz="0" izz="0.00000065322"/>
    </inertial>
  </link>
  <gazebo reference="gripperfinger_2_link_paraproximal_actuating_hinge">
    <mu1>1.1</mu1>
    <mu2>1.1</mu2>
  </gazebo>
  <!-- Link proximal actuating bar -->
  <link name="gripperfinger_2_link_proximal_actuating_bar">
    <visual>
      <origin rpy="0 0 0" xyz="0.026789 0 0"/>
      <geometry>
        <box size="0.05398 .0075 .002"/>
      </geometry>
    </visual>
    <collision>
      <origin rpy="0 0 0" xyz="0.026789 0 0"/>
      <geometry>
        <box size="0.05398 .0075 .002"/>
      </geometry>
    </collision>
    <inertial>
      <origin rpy="0 0 0" xyz="0.02699 -0.00122 0"/>
      <mass value="0.00659"/>
      <inertia ixx="0.00000008348" ixy="-0.0000002179" ixz="0.00000000134" iyy="0.00000719076" iyz="0" izz="0.00000718272"/>
    </inertial>
  </link>
  <gazebo reference="gripperfinger_2_link_proximal_actuating_bar">
    <mu1>1.1</mu1>
    <mu2>1.1</mu2>
  </gazebo>
  <!-- Link paraproximal bar -->
  <link name="gripperfinger_2_link_paraproximal_bar">
    <visual>
      <origin rpy="0 0 0" xyz="0.02885 0 0"/>
      <geometry>
        <box size="0.05770 .0075 .002"/>
      </geometry>
    </visual>
    <collision>
      <origin rpy="0 0 0" xyz="0.02885 0 0"/>
      <geometry>
        <box size="0.05770 .0075 .002"/>
      </geometry>
    </collision>
    <inertial>
      <origin rpy="0 0 0" xyz="0.02858 -0.00129 0"/>
      <mass value="0.00732"/>
      <inertia ixx="0.00000009065" ixy="-0.00000027047" ixz="0.00000000142" iyy="0.00000878034" iyz="0" izz="0.00000877558"/>
    </inertial>
  </link>
  <gazebo reference="gripperfinger_2_link_paraproximal_bar">
    <mu1>1.1</mu1>
    <mu2>1.1</mu2>
  </gazebo>
  <!-- Link median actuating hinge -->
  <link name="gripperfinger_2_link_median_actuating_hinge">
    <visual>
      <origin rpy="0 0 0" xyz="0 0 0"/>
      <geometry>
        <box size=".02 .02 .002"/>
      </geometry>
    </visual>
    <collision>
      <origin rpy="0 0 0" xyz="0 0 0"/>
      <geometry>
        <box size=".02 .02 .002"/>
      </geometry>
    </collision>
    <inertial>
      <origin rpy="0 0 0" xyz="0.0092 0.00514 0"/>
      <mass value="0.00359"/>
      <inertia ixx="0.00000024735" ixy="0.00000023619" ixz="0" iyy="0.00000047681" iyz="0" izz="0.00000071813"/>
    </inertial>
  </link>
  <gazebo reference="gripperfinger_2_link_median_actuating_hinge">
    <mu1>1.1</mu1>
    <mu2>1.1</mu2>
  </gazebo>
  <!-- Link median bar -->
  <link name="gripperfinger_2_link_median_bar">
    <visual>
      <origin rpy="0 0 0" xyz="0.01905 0 0"/>
      <geometry>
        <box size="0.0381 .0075 .002"/>
      </geometry>
    </visual>
    <collision>
      <origin rpy="0 0 0" xyz="0.01905 0 0"/>
      <geometry>
        <box size="0.0381 .0075 .002"/>
      </geometry>
    </collision>
    <inertial>
      <origin rpy="0 0 0" xyz="0.01905 -0.00107 0"/>
      <mass value="0.00538"/>
      <inertia ixx="0.00000006639" ixy="-0.00000010996" ixz="0.00000000094" iyy="0.00000305318" iyz="0" izz="0.00000304657"/>
    </inertial>
  </link>
  <gazebo reference="gripperfinger_2_link_median_bar">
    <mu1>1.1</mu1>
    <mu2>1.1</mu2>
  </gazebo>
  <!-- Link paramedian hinge -->
  <link name="gripperfinger_2_link_paramedian_hinge">
    <visual>
      <origin rpy="0 0 0" xyz="0 0 0"/>
      <geometry>
        <box size=".02 .02 .002"/>
      </geometry>
    </visual>
    <collision>
      <origin rpy="0 0 0" xyz="0 0 0"/>
      <geometry>
        <box size=".02 .02 .002"/>
      </geometry>
    </collision>
    <inertial>
      <origin rpy="0 0 0" xyz="-0.01025 0.00046 0"/>
      <mass value="0.00276"/>
      <inertia ixx="0.00000004213" ixy="-0.00000001491" ixz="0" iyy="0.00000050258" iyz="0" izz="0.00000054007"/>
    </inertial>
  </link>
  <gazebo reference="gripperfinger_2_link_paramedian_hinge">
    <mu1>1.1</mu1>
    <mu2>1.1</mu2>
  </gazebo>
  <!-- Link median bar underactuated -->
  <link name="gripperfinger_2_link_median_bar_underactuated">
    <visual>
      <origin rpy="0 0 0" xyz="0.01905 0 0"/>
      <geometry>
        <box size="0.0381 .0075 .002"/>
      </geometry>
    </visual>
    <collision>
      <origin rpy="0 0 0" xyz="0.01905 0 0"/>
      <geometry>
        <box size="0.0381 .0075 .002"/>
      </geometry>
    </collision>
    <inertial>
      <origin rpy="0 0 0" xyz="0.01905 -0.00107 0"/>
      <mass value="0.00538"/>
      <inertia ixx="0.00000006639" ixy="-0.00000010996" ixz="-0.00000000094" iyy="0.00000305318" iyz="0" izz="0.00000304657"/>
    </inertial>
  </link>
  <gazebo reference="gripperfinger_2_link_median_bar_underactuated">
    <mu1>1.1</mu1>
    <mu2>1.1</mu2>
  </gazebo>
  <!-- Link paradistal hinge -->
  <link name="gripperfinger_2_link_paradistal_hinge">
    <visual>
      <origin rpy="0 0 0" xyz="0 0 0"/>
      <geometry>
        <box size=".02 .02 .002"/>
      </geometry>
    </visual>
    <collision>
      <origin rpy="0 0 0" xyz="0 0 0"/>
      <geometry>
        <box size=".02 0.02 .002"/>
      </geometry>
    </collision>
    <inertial>
      <origin rpy="0 0 0" xyz="0.00548 0 0"/>
      <mass value="0.00158"/>
      <inertia ixx="0.00000001907" ixy="0" ixz="0" iyy="0.00000010970" iyz="0" izz="0.00000012610"/>
    </inertial>
  </link>
  <gazebo reference="gripperfinger_2_link_paradistal_hinge">
    <mu1>1.1</mu1>
    <mu2>1.1</mu2>
  </gazebo>
  <!-- End of link list -->
  <!-- Joint list -->
  <!-- Joint proximal actuating hinge -->
  <joint name="gripperfinger_2_joint_proximal_actuating_hinge" type="revolute">
    <parent link="gripperfinger_2_link_0"/>
    <child link="gripperfinger_2_link_proximal_actuating_hinge"/>
    <axis xyz="0 0 1"/>
    <origin rpy="0 0 -2.0906" xyz="0 0 0.01"/>
    <limit effort="100" lower="-3.1416" upper="3.1416" velocity="100"/>
  </joint>
  <gazebo reference="gripperfinger_2_joint_proximal_actuating_hinge">
    <implicitSpringDamper>1</implicitSpringDamper>
  </gazebo>
  <!-- Joint paraproximal actuating hinge -->
  <joint name="gripperfinger_2_joint_paraproximal_actuating_hinge" type="revolute">
    <parent link="gripperfinger_2_link_0"/>
    <child link="gripperfinger_2_link_paraproximal_actuating_hinge"/>
    <axis xyz="0 0 1"/>
    <origin rpy="0 0 -2.0906" xyz="0 0 -0.01"/>
    <limit effort="100" lower="-3.1416" upper="3.1416" velocity="100"/>
  </joint>
  <gazebo reference="gripperfinger_2_joint_paraproximal_actuating_hinge">
    <implicitSpringDamper>1</implicitSpringDamper>
  </gazebo>
  <!-- Joint proximal actuating bar -->
  <joint name="gripperfinger_2_joint_proximal_actuating_bar" type="revolute">
    <parent link="gripperfinger_2_link_proximal_actuating_hinge"/>
    <child link="gripperfinger_2_link_proximal_actuating_bar"/>
    <axis xyz="0 0 1"/>
    <origin rpy="0 0 1.8616" xyz="0.02858 0 0"/>
    <limit effort="100" lower="-3.1416" upper="3.1416" velocity="100"/>
  </joint>
  <gazebo reference="gripperfinger_2_joint_proximal_actuating_bar">
    <implicitSpringDamper>1</implicitSpringDamper>
  </gazebo>
  <!-- Joint paraproximal bar -->
  <joint name="gripperfinger_2_joint_paraproximal_bar" type="revolute">
    <parent link="gripperfinger_2_link_paraproximal_actuating_hinge"/>
    <child link="gripperfinger_2_link_paraproximal_bar"/>
    <axis xyz="0 0 1"/>
    <origin rpy="0 0 1.57" xyz="0.02286 0 0"/>
    <limit effort="100" lower="-3.1416" upper="3.1416" velocity="100"/>
  </joint>
  <gazebo reference="gripperfinger_2_joint_paraproximal_bar">
    <implicitSpringDamper>1</implicitSpringDamper>
  </gazebo>
  <!-- Joint median actuating hinge -->
  <joint name="gripperfinger_2_joint_median_actuating_hinge" type="revolute">
    <parent link="gripperfinger_2_link_1"/>
    <child link="gripperfinger_2_link_median_actuating_hinge"/>
    <axis xyz="0 0 1"/>
    <origin rpy="0 0 -0.37" xyz="0 0.05715 0.01"/>
    <limit effort="100" lower="-3.1416" upper="3.1416" velocity="100"/>
  </joint>
  <gazebo reference="gripperfinger_2_joint_median_actuating_hinge">
    <implicitSpringDamper>1</implicitSpringDamper>
  </gazebo>
  <!-- Joint paramedian hinge -->
  <joint name="gripperfinger_2_joint_paramedian_hinge" type="revolute">
    <parent link="gripperfinger_2_link_1"/>
    <child link="gripperfinger_2_link_paramedian_hinge"/>
    <axis xyz="0 0 1"/>
    <!-- -0.37 is hand picked, 0.9719 is hand calculated from atan(0.02381/0.01625) -->
    <origin rpy="0 0 0" xyz="0 0.05715 -0.01"/>
    <limit effort="100" lower="-3.1416" upper="3.1416" velocity="100"/>
  </joint>
  <gazebo reference="gripperfinger_2_joint_paramedian_hinge">
    <implicitSpringDamper>1</implicitSpringDamper>
  </gazebo>
  <!-- Joint median actuating hinge median bar -->
  <joint name="gripperfinger_2_joint_median_actuating_hinge_median_bar" type="revolute">
    <parent link="gripperfinger_2_link_median_actuating_hinge"/>
    <child link="gripperfinger_2_link_median_bar"/>
    <axis xyz="0 0 1"/>
    <!-- hand calc 90 deg + atan(0.01516/0.01625) -->
    <origin rpy="0 0 2.3215" xyz="0.01625 0.01516 0"/>
    <limit effort="100" lower="-3.1416" upper="3.1416" velocity="100"/>
  </joint>
  <gazebo reference="gripperfinger_2_joint_median_actuating_hinge_median_bar">
    <implicitSpringDamper>1</implicitSpringDamper>
  </gazebo>
  <!-- Joint paradistal hinge -->
  <joint name="gripperfinger_2_joint_paradistal_hinge" type="revolute">
    <parent link="gripperfinger_2_link_2"/>
    <child link="gripperfinger_2_link_paradistal_hinge"/>
    <axis xyz="0 0 1"/>
    <origin rpy="0 0 0" xyz="0 0.039 -0.01"/>
    <limit effort="100" lower="-3.1416" upper="3.1416" velocity="100"/>
  </joint>
  <gazebo reference="gripperfinger_2_joint_paradistal_hinge">
    <implicitSpringDamper>1</implicitSpringDamper>
  </gazebo>
  <!-- Joint paramedian hinge median bar underactuated -->
  <joint name="gripperfinger_2_joint_paramedian_hinge_median_bar_underactuated" type="revolute">
    <parent link="gripperfinger_2_link_paramedian_hinge"/>
    <child link="gripperfinger_2_link_median_bar_underactuated"/>
    <axis xyz="0 0 1"/>
    <!-- hand calc 90 deg + atan(0.01227/0.00329) -->
    <origin rpy="0 0 1.5708" xyz="0.01227 0.00329 0"/>
    <limit effort="100" lower="-3.1416" upper="3.1416" velocity="100"/>
  </joint>
  <gazebo reference="gripperfinger_2_joint_paramedian_hinge_median_bar_underactuated">
    <implicitSpringDamper>1</implicitSpringDamper>
  </gazebo>
  <!-- Joint 1 -->
  <joint name="gripperfinger_2_joint_1" type="revolute">
    <origin rpy="0 0 -2.0906" xyz="0 0 0"/>
    <axis xyz="0 0 1"/>
    <parent link="gripperfinger_2_link_0"/>
    <child link="gripperfinger_2_link_1"/>
    <dynamics damping="1" friction="0"/>
    <!-- Limits: [0deg.,70deg.] -->
    <limit effort="60" lower="0" upper="1.2217" velocity="-1"/>
  </joint>
  <gazebo reference="gripperfinger_2_joint_1">
    <implicitSpringDamper>1</implicitSpringDamper>
  </gazebo>
  <!-- Joint 2 -->
  <joint name="gripperfinger_2_joint_2" type="revolute">
    <parent link="gripperfinger_2_link_1"/>
    <child link="gripperfinger_2_link_2"/>
    <dynamics damping="1" friction="0"/>
    <axis xyz="0 0 1"/>
    <origin rpy="0 0 0" xyz="0 0.05715 0"/>
    <!-- Limits: [0deg.,90deg.] -->
    <limit effort="60" lower="0" upper="1.5708" velocity="-1"/>
  </joint>
  <gazebo reference="gripperfinger_2_joint_2">
    <implicitSpringDamper>1</implicitSpringDamper>
  </gazebo>
  <!-- Joint 3 -->
  <joint name="gripperfinger_2_joint_3" type="revolute">
    <parent link="gripperfinger_2_link_2"/>
    <child link="gripperfinger_2_link_3"/>
    <dynamics damping="1" friction="0"/>
    <axis xyz="0 0 1"/>
    <origin rpy="0 0 2.0906" xyz="0 0.039 0"/>
    <!-- Limits: [-38deg.,60deg.] -->
    <limit effort="60" lower="-0.6632" upper="1.0471" velocity="-1"/>
  </joint>
  <gazebo reference="gripperfinger_2_joint_3">
    <implicitSpringDamper>1</implicitSpringDamper>
  </gazebo>
  <!-- end of joint list -->
  <!-- coupling joints in sdf -->
  <gazebo>
    <joint name="gripperfinger_2_link_proximal_actuating_bar_median_actuating_hinge_couple" type="revolute">
      <parent>gripperfinger_2_link_median_actuating_hinge</parent>
      <child>gripperfinger_2_link_proximal_actuating_bar</child>
      <pose>0.05398 0 0 0 0 0</pose>
      <axis>
        <dynamics>
          <damping>0</damping>
          <friction>0</friction>
        </dynamics>
        <xyz>0 0 1</xyz>
        <!-- <use_parent_model_frame>false</use_parent_model_frame> -->
      </axis>
    </joint>
  </gazebo>
  <gazebo reference="gripperfinger_2_link_proximal_actuating_bar_median_actuating_hinge_couple">
    <implicitSpringDamper>1</implicitSpringDamper>
  </gazebo>
  <gazebo>
    <joint name="gripperfinger_2_link_median_bar_link_3_couple" type="revolute">
      <parent>gripperfinger_2_link_3</parent>
      <child>gripperfinger_2_link_median_bar</child>
      <pose>0.0381 0 0 0 0 0</pose>
      <axis>
        <dynamics>
          <damping>0</damping>
          <friction>0</friction>
        </dynamics>
        <xyz>0 0 1</xyz>
        <!-- <use_parent_model_frame>false</use_parent_model_frame> -->
      </axis>
    </joint>
  </gazebo>
  <gazebo reference="gripperfinger_2_link_median_bar_link_3_couple">
    <implicitSpringDamper>1</implicitSpringDamper>
  </gazebo>
  <gazebo>
    <joint name="gripperfinger_2_link_paramedian_bar_paradistal_hinge_couple" type="revolute">
      <parent>gripperfinger_2_link_paradistal_hinge</parent>
      <child>gripperfinger_2_link_median_bar_underactuated</child>
      <pose>0.0381 0 0 0 0 0</pose>
      <axis>
        <dynamics>
          <damping>0</damping>
          <friction>0</friction>
        </dynamics>
        <xyz>0 0 1</xyz>
        <!-- <use_parent_model_frame>false</use_parent_model_frame> -->
      </axis>
    </joint>
  </gazebo>
  <gazebo reference="gripperfinger_2_link_median_bar_link_3_couple">
    <implicitSpringDamper>1</implicitSpringDamper>
  </gazebo>
  <gazebo>
    <joint name="gripperfinger_2_link_paradistal_hinge_link_3_couple" type="revolute">
      <parent>gripperfinger_2_link_paradistal_hinge</parent>
      <child>gripperfinger_2_link_3</child>
      <pose>0.0381 0 0 0 0 0</pose>
      <axis>
        <dynamics>
          <damping>0</damping>
          <friction>0</friction>
        </dynamics>
        <xyz>0 0 1</xyz>
        <!-- <use_parent_model_frame>false</use_parent_model_frame> -->
      </axis>
    </joint>
  </gazebo>
  <gazebo reference="gripperfinger_2_link_paradistal_hinge_link_3_couple">
    <implicitSpringDamper>1</implicitSpringDamper>
  </gazebo>
  <gazebo>
    <joint name="gripperfinger_2_link_paraproximal_bar_paramedian_hinge_couple" type="revolute">
      <parent>gripperfinger_2_link_paramedian_hinge</parent>
      <child>gripperfinger_2_link_paraproximal_bar</child>
      <pose>0.05770 0 0 0 0 0</pose>
      <axis>
        <dynamics>
          <damping>0</damping>
          <friction>0</friction>
        </dynamics>
        <xyz>0 0 1</xyz>
        <!-- <use_parent_model_frame>false</use_parent_model_frame> -->
      </axis>
    </joint>
  </gazebo>
  <gazebo reference="gripperfinger_2_link_paraproximal_bar_paramedian_hinge_couple">
    <implicitSpringDamper>1</implicitSpringDamper>
  </gazebo>
  <!-- Link list -->
  <!-- Link 0 -->
  <link name="gripperfinger_middle_link_0">
    <visual>
      <origin rpy="0 0 0" xyz="0 0 0"/>
      <geometry>
        <mesh filename="package://robotiq_s_model_visualization/meshes/s-model_articulated/visual/link_0.STL"/>
      </geometry>
      <material name="green">
        <color rgba="0 1 0 1"/>
      </material>
    </visual>
    <collision>
      <origin rpy="0 0 0" xyz="0 0 0"/>
      <geometry>
        <mesh filename="package://robotiq_s_model_visualization/meshes/s-model_articulated/collision/link_0.STL"/>
      </geometry>
      <material name="yellow">
        <color rgba="0 1 1 1"/>
      </material>
    </collision>
    <inertial>
      <mass value="0.1"/>
      <origin xyz="-0.01 0 0"/>
      <inertia ixx="0.000018" ixy="0" ixz="0" iyy="0.000025" iyz="0" izz="0.000025"/>
    </inertial>
  </link>
  <gazebo reference="gripperfinger_middle_link_0">
    <mu1>1.1</mu1>
    <mu2>1.1</mu2>
  </gazebo>
  <!-- Link 1 -->
  <link name="gripperfinger_middle_link_1">
    <visual>
      <origin rpy="0 0 1.5708" xyz="0 0.05717 0"/>
      <geometry>
        <mesh filename="package://robotiq_s_model_visualization/meshes/s-model_articulated/visual/link_1.STL"/>
      </geometry>
      <material name="green"/>
    </visual>
    <collision>
      <origin rpy="0 0 1.5708" xyz="0 0.05717 0"/>
      <geometry>
        <mesh filename="package://robotiq_s_model_visualization/meshes/s-model_articulated/collision/link_1.STL"/>
      </geometry>
      <material name="yellow">
        <color rgba="0 1 1 1"/>
      </material>
    </collision>
    <inertial>
      <origin rpy="0 0 1.5708" xyz="0.00053 0.03218 0"/>
      <mass value="0.047"/>
      <inertia ixx="0.00000499332" ixy="0.00000091312" ixz="-0.00000000120" iyy="0.00006434531" iyz="-0.00000000007" izz="0.00006061917"/>
    </inertial>
  </link>
  <gazebo reference="gripperfinger_middle_link_1">
    <mu1>1.1</mu1>
    <mu2>1.1</mu2>
  </gazebo>
  <!-- Link 2 -->
  <link name="gripperfinger_middle_link_2">
    <visual>
      <origin rpy="0 0 1.5708" xyz="0 0.03810 0.0075"/>
      <geometry>
        <mesh filename="package://robotiq_s_model_visualization/meshes/s-model_articulated/visual/link_2.STL"/>
      </geometry>
      <material name="green"/>
    </visual>
    <collision>
      <origin rpy="0 0 1.5708" xyz="0 0.03810 0.0075"/>
      <geometry>
        <mesh filename="package://robotiq_s_model_visualization/meshes/s-model_articulated/collision/link_2.STL"/>
      </geometry>
      <material name="yellow"/>
    </collision>
    <inertial>
      <origin rpy="0 0 1.5708" xyz="0.00048 0.02167 0.00018"/>
      <mass value="0.03284"/>
      <inertia ixx="0.00000348008" ixy="0.00000031940" ixz="0.00000013041" iyy="0.00002248123" iyz="0.00000000291" izz="0.00001986346"/>
    </inertial>
  </link>
  <gazebo reference="gripperfinger_middle_link_2">
    <mu1>1.1</mu1>
    <mu2>1.1</mu2>
  </gazebo>
  <!-- Link 3 -->
  <link name="gripperfinger_middle_link_3">
    <visual>
      <origin rpy="0 0 0" xyz="0 0 0"/>
      <geometry>
        <mesh filename="package://robotiq_s_model_visualization/meshes/s-model_articulated/visual/link_3.STL"/>
      </geometry>
      <material name="green"/>
    </visual>
    <collision>
      <origin rpy="0 0 0" xyz="0 0 0"/>
      <geometry>
        <mesh filename="package://robotiq_s_model_visualization/meshes/s-model_articulated/collision/link_3.STL"/>
      </geometry>
      <material name="yellow"/>
    </collision>
    <inertial>
      <origin rpy="0 0 0" xyz="0.01626 0.00049 0.0002"/>
      <mass value="0.03354"/>
      <inertia ixx="0.00000305151" ixy="0.00000089792" ixz="0.00000000249" iyy="0.00001427978" iyz="-0.00000001191" izz="0.00001264126"/>
    </inertial>
  </link>
  <gazebo reference="gripperfinger_middle_link_3">
    <mu1>1.1</mu1>
    <mu2>1.1</mu2>
  </gazebo>
  <!-- Link proximal actuating hinge -->
  <link name="gripperfinger_middle_link_proximal_actuating_hinge">
    <visual>
      <origin rpy="0 0 0" xyz="0.01429 0 0"/>
      <geometry>
        <box size="0.02858 .0075 .002"/>
      </geometry>
    </visual>
    <collision>
      <origin rpy="0 0 0" xyz="0.01429 0 0"/>
      <geometry>
        <box size="0.02858 .0075 .002"/>
      </geometry>
    </collision>
    <inertial>
      <origin rpy="0 0 0" xyz="0.0012 -0.00162 -0.00161"/>
      <mass value="0.02647"/>
      <inertia ixx="0.00000156447" ixy="0.000000236226" ixz="-0.00000014862" iyy="0.00000221068" iyz="-0.00000014369" izz="0.00000323175"/>
    </inertial>
  </link>
  <gazebo reference="gripperfinger_middle_link_proximal_actuating_hinge">
    <mu1>1.1</mu1>
    <mu2>1.1</mu2>
  </gazebo>
  <!-- Link paraproximal actuating hinge -->
  <link name="gripperfinger_middle_link_paraproximal_actuating_hinge">
    <visual>
      <origin rpy="0 0 0" xyz="0.01143 0 0"/>
      <geometry>
        <box size="0.02286 .0075 .002"/>
      </geometry>
    </visual>
    <collision>
      <origin rpy="0 0 0" xyz="0.01143 0 0"/>
      <geometry>
        <box size="0.02286 .0075 .002"/>
      </geometry>
    </collision>
    <inertial>
      <origin rpy="0 0 0" xyz="0.0064 0 0"/>
      <!-- copied from proximal_actuating_hinge -->
      <mass value="0.00362"/>
      <inertia ixx="0.00000012043" ixy="0" ixz="0" iyy="0.00000053588" iyz="0" izz="0.00000065322"/>
    </inertial>
  </link>
  <gazebo reference="gripperfinger_middle_link_paraproximal_actuating_hinge">
    <mu1>1.1</mu1>
    <mu2>1.1</mu2>
  </gazebo>
  <!-- Link proximal actuating bar -->
  <link name="gripperfinger_middle_link_proximal_actuating_bar">
    <visual>
      <origin rpy="0 0 0" xyz="0.026789 0 0"/>
      <geometry>
        <box size="0.05398 .0075 .002"/>
      </geometry>
    </visual>
    <collision>
      <origin rpy="0 0 0" xyz="0.026789 0 0"/>
      <geometry>
        <box size="0.05398 .0075 .002"/>
      </geometry>
    </collision>
    <inertial>
      <origin rpy="0 0 0" xyz="0.02699 -0.00122 0"/>
      <mass value="0.00659"/>
      <inertia ixx="0.00000008348" ixy="-0.0000002179" ixz="0.00000000134" iyy="0.00000719076" iyz="0" izz="0.00000718272"/>
    </inertial>
  </link>
  <gazebo reference="gripperfinger_middle_link_proximal_actuating_bar">
    <mu1>1.1</mu1>
    <mu2>1.1</mu2>
  </gazebo>
  <!-- Link paraproximal bar -->
  <link name="gripperfinger_middle_link_paraproximal_bar">
    <visual>
      <origin rpy="0 0 0" xyz="0.02885 0 0"/>
      <geometry>
        <box size="0.05770 .0075 .002"/>
      </geometry>
    </visual>
    <collision>
      <origin rpy="0 0 0" xyz="0.02885 0 0"/>
      <geometry>
        <box size="0.05770 .0075 .002"/>
      </geometry>
    </collision>
    <inertial>
      <origin rpy="0 0 0" xyz="0.02858 -0.00129 0"/>
      <mass value="0.00732"/>
      <inertia ixx="0.00000009065" ixy="-0.00000027047" ixz="0.00000000142" iyy="0.00000878034" iyz="0" izz="0.00000877558"/>
    </inertial>
  </link>
  <gazebo reference="gripperfinger_middle_link_paraproximal_bar">
    <mu1>1.1</mu1>
    <mu2>1.1</mu2>
  </gazebo>
  <!-- Link median actuating hinge -->
  <link name="gripperfinger_middle_link_median_actuating_hinge">
    <visual>
      <origin rpy="0 0 0" xyz="0 0 0"/>
      <geometry>
        <box size=".02 .02 .002"/>
      </geometry>
    </visual>
    <collision>
      <origin rpy="0 0 0" xyz="0 0 0"/>
      <geometry>
        <box size=".02 .02 .002"/>
      </geometry>
    </collision>
    <inertial>
      <origin rpy="0 0 0" xyz="0.0092 0.00514 0"/>
      <mass value="0.00359"/>
      <inertia ixx="0.00000024735" ixy="0.00000023619" ixz="0" iyy="0.00000047681" iyz="0" izz="0.00000071813"/>
    </inertial>
  </link>
  <gazebo reference="gripperfinger_middle_link_median_actuating_hinge">
    <mu1>1.1</mu1>
    <mu2>1.1</mu2>
  </gazebo>
  <!-- Link median bar -->
  <link name="gripperfinger_middle_link_median_bar">
    <visual>
      <origin rpy="0 0 0" xyz="0.01905 0 0"/>
      <geometry>
        <box size="0.0381 .0075 .002"/>
      </geometry>
    </visual>
    <collision>
      <origin rpy="0 0 0" xyz="0.01905 0 0"/>
      <geometry>
        <box size="0.0381 .0075 .002"/>
      </geometry>
    </collision>
    <inertial>
      <origin rpy="0 0 0" xyz="0.01905 -0.00107 0"/>
      <mass value="0.00538"/>
      <inertia ixx="0.00000006639" ixy="-0.00000010996" ixz="0.00000000094" iyy="0.00000305318" iyz="0" izz="0.00000304657"/>
    </inertial>
  </link>
  <gazebo reference="gripperfinger_middle_link_median_bar">
    <mu1>1.1</mu1>
    <mu2>1.1</mu2>
  </gazebo>
  <!-- Link paramedian hinge -->
  <link name="gripperfinger_middle_link_paramedian_hinge">
    <visual>
      <origin rpy="0 0 0" xyz="0 0 0"/>
      <geometry>
        <box size=".02 .02 .002"/>
      </geometry>
    </visual>
    <collision>
      <origin rpy="0 0 0" xyz="0 0 0"/>
      <geometry>
        <box size=".02 .02 .002"/>
      </geometry>
    </collision>
    <inertial>
      <origin rpy="0 0 0" xyz="-0.01025 0.00046 0"/>
      <mass value="0.00276"/>
      <inertia ixx="0.00000004213" ixy="-0.00000001491" ixz="0" iyy="0.00000050258" iyz="0" izz="0.00000054007"/>
    </inertial>
  </link>
  <gazebo reference="gripperfinger_middle_link_paramedian_hinge">
    <mu1>1.1</mu1>
    <mu2>1.1</mu2>
  </gazebo>
  <!-- Link median bar underactuated -->
  <link name="gripperfinger_middle_link_median_bar_underactuated">
    <visual>
      <origin rpy="0 0 0" xyz="0.01905 0 0"/>
      <geometry>
        <box size="0.0381 .0075 .002"/>
      </geometry>
    </visual>
    <collision>
      <origin rpy="0 0 0" xyz="0.01905 0 0"/>
      <geometry>
        <box size="0.0381 .0075 .002"/>
      </geometry>
    </collision>
    <inertial>
      <origin rpy="0 0 0" xyz="0.01905 -0.00107 0"/>
      <mass value="0.00538"/>
      <inertia ixx="0.00000006639" ixy="-0.00000010996" ixz="-0.00000000094" iyy="0.00000305318" iyz="0" izz="0.00000304657"/>
    </inertial>
  </link>
  <gazebo reference="gripperfinger_middle_link_median_bar_underactuated">
    <mu1>1.1</mu1>
    <mu2>1.1</mu2>
  </gazebo>
  <!-- Link paradistal hinge -->
  <link name="gripperfinger_middle_link_paradistal_hinge">
    <visual>
      <origin rpy="0 0 0" xyz="0 0 0"/>
      <geometry>
        <box size=".02 .02 .002"/>
      </geometry>
    </visual>
    <collision>
      <origin rpy="0 0 0" xyz="0 0 0"/>
      <geometry>
        <box size=".02 0.02 .002"/>
      </geometry>
    </collision>
    <inertial>
      <origin rpy="0 0 0" xyz="0.00548 0 0"/>
      <mass value="0.00158"/>
      <inertia ixx="0.00000001907" ixy="0" ixz="0" iyy="0.00000010970" iyz="0" izz="0.00000012610"/>
    </inertial>
  </link>
  <gazebo reference="gripperfinger_middle_link_paradistal_hinge">
    <mu1>1.1</mu1>
    <mu2>1.1</mu2>
  </gazebo>
  <!-- End of link list -->
  <!-- Joint list -->
  <!-- Joint proximal actuating hinge -->
  <joint name="gripperfinger_middle_joint_proximal_actuating_hinge" type="revolute">
    <parent link="gripperfinger_middle_link_0"/>
    <child link="gripperfinger_middle_link_proximal_actuating_hinge"/>
    <axis xyz="0 0 1"/>
    <origin rpy="0 0 -2.0906" xyz="0 0 0.01"/>
    <limit effort="100" lower="-3.1416" upper="3.1416" velocity="100"/>
  </joint>
  <gazebo reference="gripperfinger_middle_joint_proximal_actuating_hinge">
    <implicitSpringDamper>1</implicitSpringDamper>
  </gazebo>
  <!-- Joint paraproximal actuating hinge -->
  <joint name="gripperfinger_middle_joint_paraproximal_actuating_hinge" type="revolute">
    <parent link="gripperfinger_middle_link_0"/>
    <child link="gripperfinger_middle_link_paraproximal_actuating_hinge"/>
    <axis xyz="0 0 1"/>
    <origin rpy="0 0 -2.0906" xyz="0 0 -0.01"/>
    <limit effort="100" lower="-3.1416" upper="3.1416" velocity="100"/>
  </joint>
  <gazebo reference="gripperfinger_middle_joint_paraproximal_actuating_hinge">
    <implicitSpringDamper>1</implicitSpringDamper>
  </gazebo>
  <!-- Joint proximal actuating bar -->
  <joint name="gripperfinger_middle_joint_proximal_actuating_bar" type="revolute">
    <parent link="gripperfinger_middle_link_proximal_actuating_hinge"/>
    <child link="gripperfinger_middle_link_proximal_actuating_bar"/>
    <axis xyz="0 0 1"/>
    <origin rpy="0 0 1.8616" xyz="0.02858 0 0"/>
    <limit effort="100" lower="-3.1416" upper="3.1416" velocity="100"/>
  </joint>
  <gazebo reference="gripperfinger_middle_joint_proximal_actuating_bar">
    <implicitSpringDamper>1</implicitSpringDamper>
  </gazebo>
  <!-- Joint paraproximal bar -->
  <joint name="gripperfinger_middle_joint_paraproximal_bar" type="revolute">
    <parent link="gripperfinger_middle_link_paraproximal_actuating_hinge"/>
    <child link="gripperfinger_middle_link_paraproximal_bar"/>
    <axis xyz="0 0 1"/>
    <origin rpy="0 0 1.57" xyz="0.02286 0 0"/>
    <limit effort="100" lower="-3.1416" upper="3.1416" velocity="100"/>
  </joint>
  <gazebo reference="gripperfinger_middle_joint_paraproximal_bar">
    <implicitSpringDamper>1</implicitSpringDamper>
  </gazebo>
  <!-- Joint median actuating hinge -->
  <joint name="gripperfinger_middle_joint_median_actuating_hinge" type="revolute">
    <parent link="gripperfinger_middle_link_1"/>
    <child link="gripperfinger_middle_link_median_actuating_hinge"/>
    <axis xyz="0 0 1"/>
    <origin rpy="0 0 -0.37" xyz="0 0.05715 0.01"/>
    <limit effort="100" lower="-3.1416" upper="3.1416" velocity="100"/>
  </joint>
  <gazebo reference="gripperfinger_middle_joint_median_actuating_hinge">
    <implicitSpringDamper>1</implicitSpringDamper>
  </gazebo>
  <!-- Joint paramedian hinge -->
  <joint name="gripperfinger_middle_joint_paramedian_hinge" type="revolute">
    <parent link="gripperfinger_middle_link_1"/>
    <child link="gripperfinger_middle_link_paramedian_hinge"/>
    <axis xyz="0 0 1"/>
    <!-- -0.37 is hand picked, 0.9719 is hand calculated from atan(0.02381/0.01625) -->
    <origin rpy="0 0 0" xyz="0 0.05715 -0.01"/>
    <limit effort="100" lower="-3.1416" upper="3.1416" velocity="100"/>
  </joint>
  <gazebo reference="gripperfinger_middle_joint_paramedian_hinge">
    <implicitSpringDamper>1</implicitSpringDamper>
  </gazebo>
  <!-- Joint median actuating hinge median bar -->
  <joint name="gripperfinger_middle_joint_median_actuating_hinge_median_bar" type="revolute">
    <parent link="gripperfinger_middle_link_median_actuating_hinge"/>
    <child link="gripperfinger_middle_link_median_bar"/>
    <axis xyz="0 0 1"/>
    <!-- hand calc 90 deg + atan(0.01516/0.01625) -->
    <origin rpy="0 0 2.3215" xyz="0.01625 0.01516 0"/>
    <limit effort="100" lower="-3.1416" upper="3.1416" velocity="100"/>
  </joint>
  <gazebo reference="gripperfinger_middle_joint_median_actuating_hinge_median_bar">
    <implicitSpringDamper>1</implicitSpringDamper>
  </gazebo>
  <!-- Joint paradistal hinge -->
  <joint name="gripperfinger_middle_joint_paradistal_hinge" type="revolute">
    <parent link="gripperfinger_middle_link_2"/>
    <child link="gripperfinger_middle_link_paradistal_hinge"/>
    <axis xyz="0 0 1"/>
    <origin rpy="0 0 0" xyz="0 0.039 -0.01"/>
    <limit effort="100" lower="-3.1416" upper="3.1416" velocity="100"/>
  </joint>
  <gazebo reference="gripperfinger_middle_joint_paradistal_hinge">
    <implicitSpringDamper>1</implicitSpringDamper>
  </gazebo>
  <!-- Joint paramedian hinge median bar underactuated -->
  <joint name="gripperfinger_middle_joint_paramedian_hinge_median_bar_underactuated" type="revolute">
    <parent link="gripperfinger_middle_link_paramedian_hinge"/>
    <child link="gripperfinger_middle_link_median_bar_underactuated"/>
    <axis xyz="0 0 1"/>
    <!-- hand calc 90 deg + atan(0.01227/0.00329) -->
    <origin rpy="0 0 1.5708" xyz="0.01227 0.00329 0"/>
    <limit effort="100" lower="-3.1416" upper="3.1416" velocity="100"/>
  </joint>
  <gazebo reference="gripperfinger_middle_joint_paramedian_hinge_median_bar_underactuated">
    <implicitSpringDamper>1</implicitSpringDamper>
  </gazebo>
  <!-- Joint 1 -->
  <joint name="gripperfinger_middle_joint_1" type="revolute">
    <origin rpy="0 0 -2.0906" xyz="0 0 0"/>
    <axis xyz="0 0 1"/>
    <parent link="gripperfinger_middle_link_0"/>
    <child link="gripperfinger_middle_link_1"/>
    <dynamics damping="1" friction="0"/>
    <!-- Limits: [0deg.,70deg.] -->
    <limit effort="60" lower="0" upper="1.2217" velocity="-1"/>
  </joint>
  <gazebo reference="gripperfinger_middle_joint_1">
    <implicitSpringDamper>1</implicitSpringDamper>
  </gazebo>
  <!-- Joint 2 -->
  <joint name="gripperfinger_middle_joint_2" type="revolute">
    <parent link="gripperfinger_middle_link_1"/>
    <child link="gripperfinger_middle_link_2"/>
    <dynamics damping="1" friction="0"/>
    <axis xyz="0 0 1"/>
    <origin rpy="0 0 0" xyz="0 0.05715 0"/>
    <!-- Limits: [0deg.,90deg.] -->
    <limit effort="60" lower="0" upper="1.5708" velocity="-1"/>
  </joint>
  <gazebo reference="gripperfinger_middle_joint_2">
    <implicitSpringDamper>1</implicitSpringDamper>
  </gazebo>
  <!-- Joint 3 -->
  <joint name="gripperfinger_middle_joint_3" type="revolute">
    <parent link="gripperfinger_middle_link_2"/>
    <child link="gripperfinger_middle_link_3"/>
    <dynamics damping="1" friction="0"/>
    <axis xyz="0 0 1"/>
    <origin rpy="0 0 2.0906" xyz="0 0.039 0"/>
    <!-- Limits: [-38deg.,60deg.] -->
    <limit effort="60" lower="-0.6632" upper="1.0471" velocity="-1"/>
  </joint>
  <gazebo reference="gripperfinger_middle_joint_3">
    <implicitSpringDamper>1</implicitSpringDamper>
  </gazebo>
  <!-- end of joint list -->
  <!-- coupling joints in sdf -->
  <gazebo>
    <joint name="gripperfinger_middle_link_proximal_actuating_bar_median_actuating_hinge_couple" type="revolute">
      <parent>gripperfinger_middle_link_median_actuating_hinge</parent>
      <child>gripperfinger_middle_link_proximal_actuating_bar</child>
      <pose>0.05398 0 0 0 0 0</pose>
      <axis>
        <dynamics>
          <damping>0</damping>
          <friction>0</friction>
        </dynamics>
        <xyz>0 0 1</xyz>
        <!-- <use_parent_model_frame>false</use_parent_model_frame> -->
      </axis>
    </joint>
  </gazebo>
  <gazebo reference="gripperfinger_middle_link_proximal_actuating_bar_median_actuating_hinge_couple">
    <implicitSpringDamper>1</implicitSpringDamper>
  </gazebo>
  <gazebo>
    <joint name="gripperfinger_middle_link_median_bar_link_3_couple" type="revolute">
      <parent>gripperfinger_middle_link_3</parent>
      <child>gripperfinger_middle_link_median_bar</child>
      <pose>0.0381 0 0 0 0 0</pose>
      <axis>
        <dynamics>
          <damping>0</damping>
          <friction>0</friction>
        </dynamics>
        <xyz>0 0 1</xyz>
        <!-- <use_parent_model_frame>false</use_parent_model_frame> -->
      </axis>
    </joint>
  </gazebo>
  <gazebo reference="gripperfinger_middle_link_median_bar_link_3_couple">
    <implicitSpringDamper>1</implicitSpringDamper>
  </gazebo>
  <gazebo>
    <joint name="gripperfinger_middle_link_paramedian_bar_paradistal_hinge_couple" type="revolute">
      <parent>gripperfinger_middle_link_paradistal_hinge</parent>
      <child>gripperfinger_middle_link_median_bar_underactuated</child>
      <pose>0.0381 0 0 0 0 0</pose>
      <axis>
        <dynamics>
          <damping>0</damping>
          <friction>0</friction>
        </dynamics>
        <xyz>0 0 1</xyz>
        <!-- <use_parent_model_frame>false</use_parent_model_frame> -->
      </axis>
    </joint>
  </gazebo>
  <gazebo reference="gripperfinger_middle_link_median_bar_link_3_couple">
    <implicitSpringDamper>1</implicitSpringDamper>
  </gazebo>
  <gazebo>
    <joint name="gripperfinger_middle_link_paradistal_hinge_link_3_couple" type="revolute">
      <parent>gripperfinger_middle_link_paradistal_hinge</parent>
      <child>gripperfinger_middle_link_3</child>
      <pose>0.0381 0 0 0 0 0</pose>
      <axis>
        <dynamics>
          <damping>0</damping>
          <friction>0</friction>
        </dynamics>
        <xyz>0 0 1</xyz>
        <!-- <use_parent_model_frame>false</use_parent_model_frame> -->
      </axis>
    </joint>
  </gazebo>
  <gazebo reference="gripperfinger_middle_link_paradistal_hinge_link_3_couple">
    <implicitSpringDamper>1</implicitSpringDamper>
  </gazebo>
  <gazebo>
    <joint name="gripperfinger_middle_link_paraproximal_bar_paramedian_hinge_couple" type="revolute">
      <parent>gripperfinger_middle_link_paramedian_hinge</parent>
      <child>gripperfinger_middle_link_paraproximal_bar</child>
      <pose>0.05770 0 0 0 0 0</pose>
      <axis>
        <dynamics>
          <damping>0</damping>
          <friction>0</friction>
        </dynamics>
        <xyz>0 0 1</xyz>
        <!-- <use_parent_model_frame>false</use_parent_model_frame> -->
      </axis>
    </joint>
  </gazebo>
  <gazebo reference="gripperfinger_middle_link_paraproximal_bar_paramedian_hinge_couple">
    <implicitSpringDamper>1</implicitSpringDamper>
  </gazebo>
  <!-- link list -->
  <!-- Link palm -->
  <link name="gripperpalm">
    <visual>
      <geometry>
        <mesh filename="package://robotiq_s_model_visualization/meshes/s-model_articulated/visual/palm.STL"/>
      </geometry>
      <material name="green">
        <color rgba="0 1 0 1"/>
      </material>
    </visual>
    <!-- Simple shape collision -->
    <collision>
      <origin rpy="0 0 0" xyz="0 0 0"/>
      <geometry>
        <box size="0.1 0.1 0.1"/>
      </geometry>
      <material name="yellow">
        <color rgba="0 1 1 1"/>
      </material>
    </collision>
    <inertial>
      <origin rpy="0 0 0" xyz="0 0 0"/>
      <mass value="1.3"/>
      <inertia ixx="0.0035" ixy="0" ixz="-0" iyy="0.0035" iyz="0" izz="0.0035"/>
    </inertial>
  </link>
  <gazebo reference="gripperpalm">
    <mu1>1.1</mu1>
    <mu2>1.1</mu2>
  </gazebo>
  <!-- End of link list -->
  <!-- Joint list -->
  <!-- Joint palm_finger_1_joint -->
  <joint name="gripperpalm_finger_1_joint" type="revolute">
    <parent link="gripperpalm"/>
    <child link="gripperfinger_1_link_0"/>
    <dynamics damping="1" friction="0"/>
    <axis xyz="0 1 0"/>
    <origin rpy="0 3.1416 -1.57" xyz="-0.0455 0.0214 0.036"/>
    <!-- Limits: [-17deg.,17deg.] -->
    <limit effort="60" lower="-0.2967" upper="0.2967" velocity="-1"/>
  </joint>
  <gazebo reference="gripperpalm_finger_1_joint">
    <implicitSpringDamper>1</implicitSpringDamper>
  </gazebo>
  <!-- Joint palm_finger_2_joint -->
  <joint name="gripperpalm_finger_2_joint" type="revolute">
    <parent link="gripperpalm"/>
    <child link="gripperfinger_2_link_0"/>
    <dynamics damping="1" friction="0"/>
    <axis xyz="0 1 0"/>
    <origin rpy="0 3.1416 -1.57" xyz="-0.0455 0.0214 -0.036"/>
    <!-- Limits: [-17deg.,17deg.] -->
    <limit effort="60" lower="-0.2967" upper="0.2967" velocity="-1"/>
  </joint>
  <gazebo reference="gripperpalm_finger_2_joint">
    <implicitSpringDamper>1</implicitSpringDamper>
  </gazebo>
  <!-- Joint palm_finger_middle_joint -->
  <joint name="gripperpalm_finger_middle_joint" type="revolute">
    <parent link="gripperpalm"/>
    <child link="gripperfinger_middle_link_0"/>
    <dynamics damping="1" friction="0"/>
    <axis xyz="0 1 0"/>
    <origin rpy="0 0 1.57" xyz="0.0455 0.0214 0"/>
    <limit effort="60" lower="0" upper="0" velocity="-1"/>
  </joint>
  <gazebo reference="gripperpalm_finger_middle_joint">
    <implicitSpringDamper>1</implicitSpringDamper>
  </gazebo>
  <!-- end of joint list -->
</robot>
